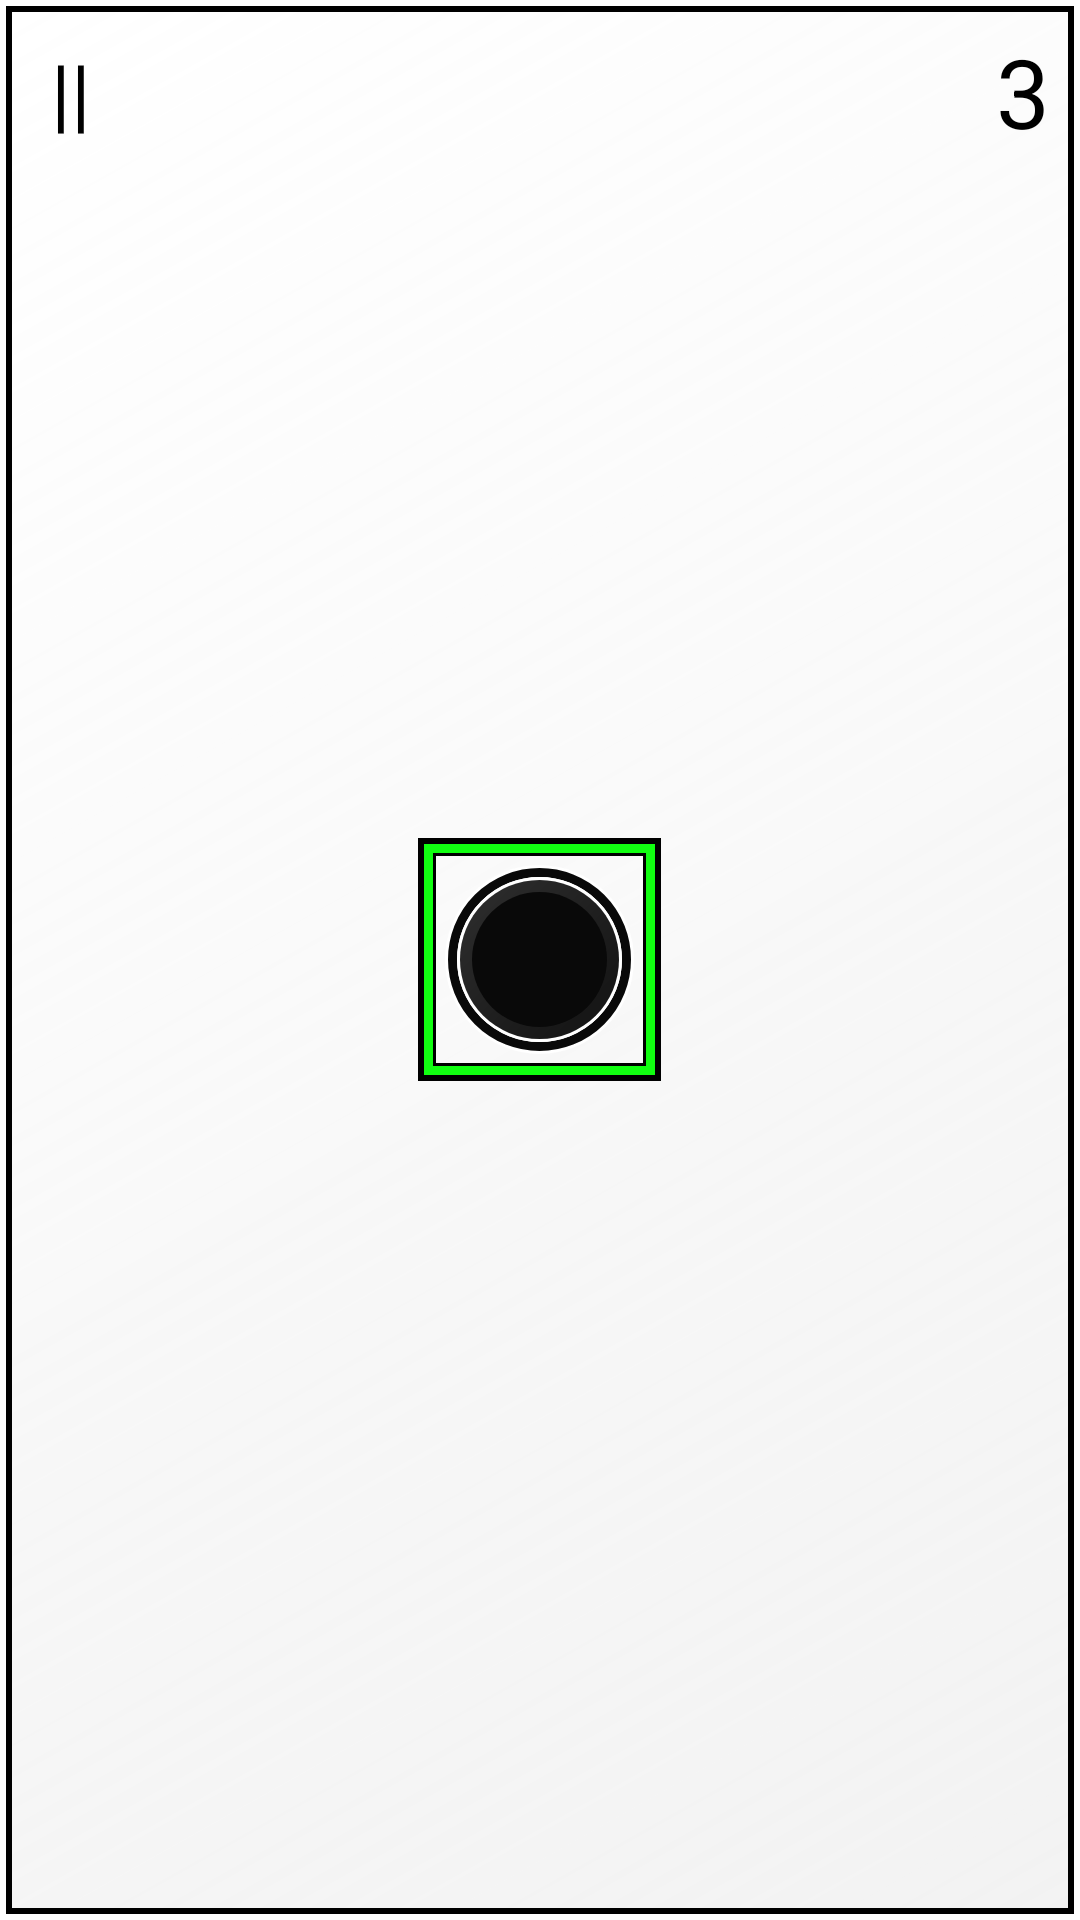

Point at icon controls on the screen. Image size 1080×1920, points as (x,y).
ball: (539,959)
